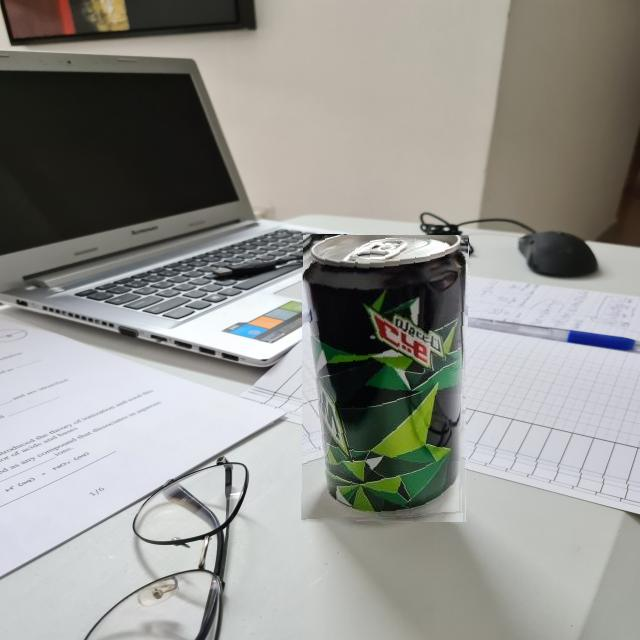recyclable: (302, 235, 469, 524)
